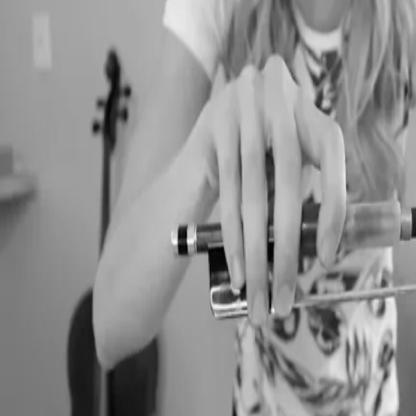good: (202, 45, 352, 343)
